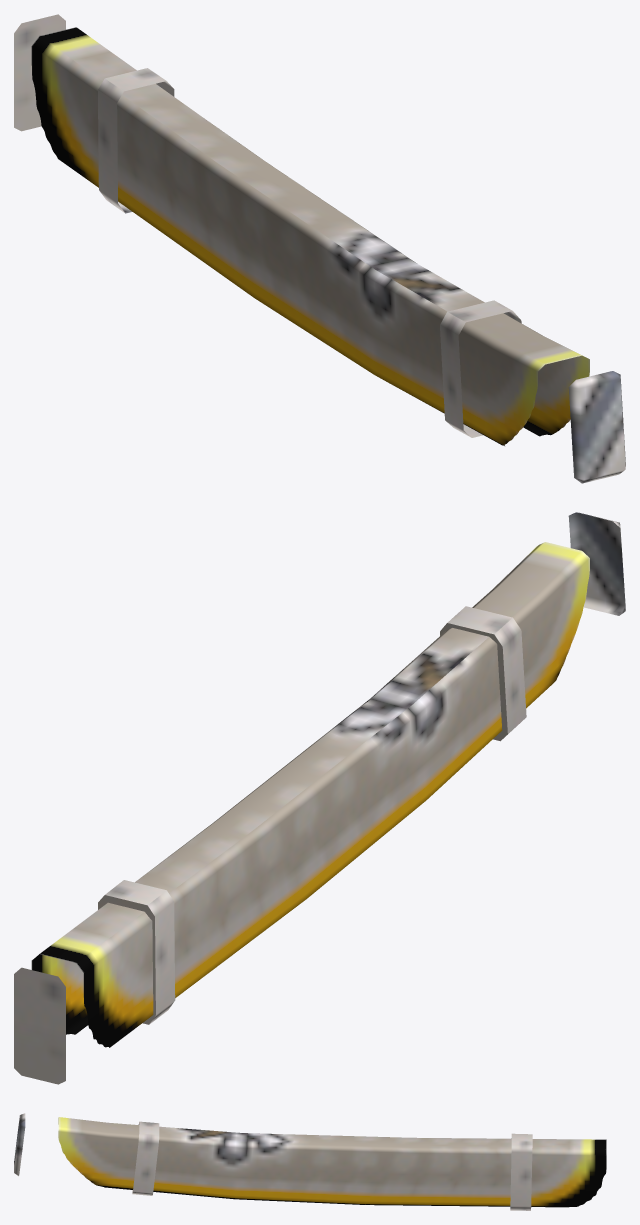
The picture shows the model from 3 angles, top to bottom: view 1: azimuth 30°, elevation 25°; view 2: azimuth 150°, elevation 25°; view 3: azimuth 270°, elevation 25°; orthographic projection. The views are drawn at different scales.
Parts seen in each view (by area): view 1: mSaya; view 2: mSaya; view 3: mSaya.
Part boxes in pixels (x1,y1,x2,y2): mSaya: (14, 14, 625, 483); mSaya: (14, 512, 625, 1084); mSaya: (14, 1113, 606, 1210).
Size of the model in its own units: 0.0446 by 0.1093 by 0.6944.
